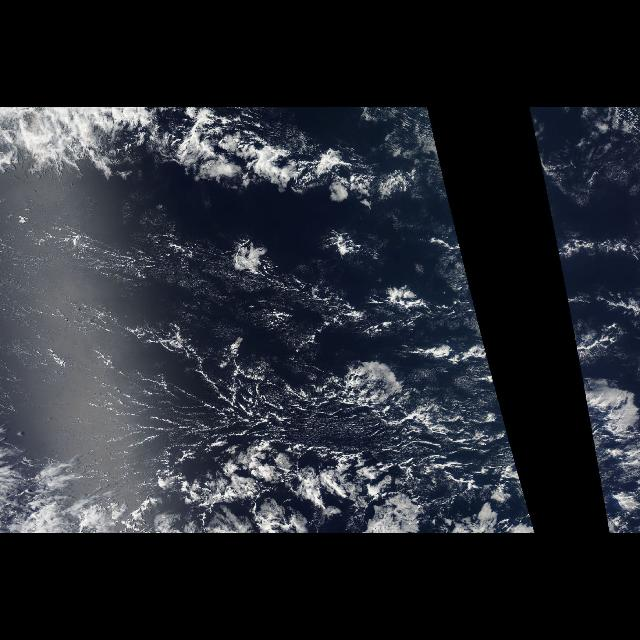Fish: (162, 112, 414, 205)
Flower: (16, 436, 536, 532), (590, 436, 620, 532)
Gravel: (12, 284, 524, 484), (563, 284, 639, 484)
Sugar: (108, 372, 422, 450)
